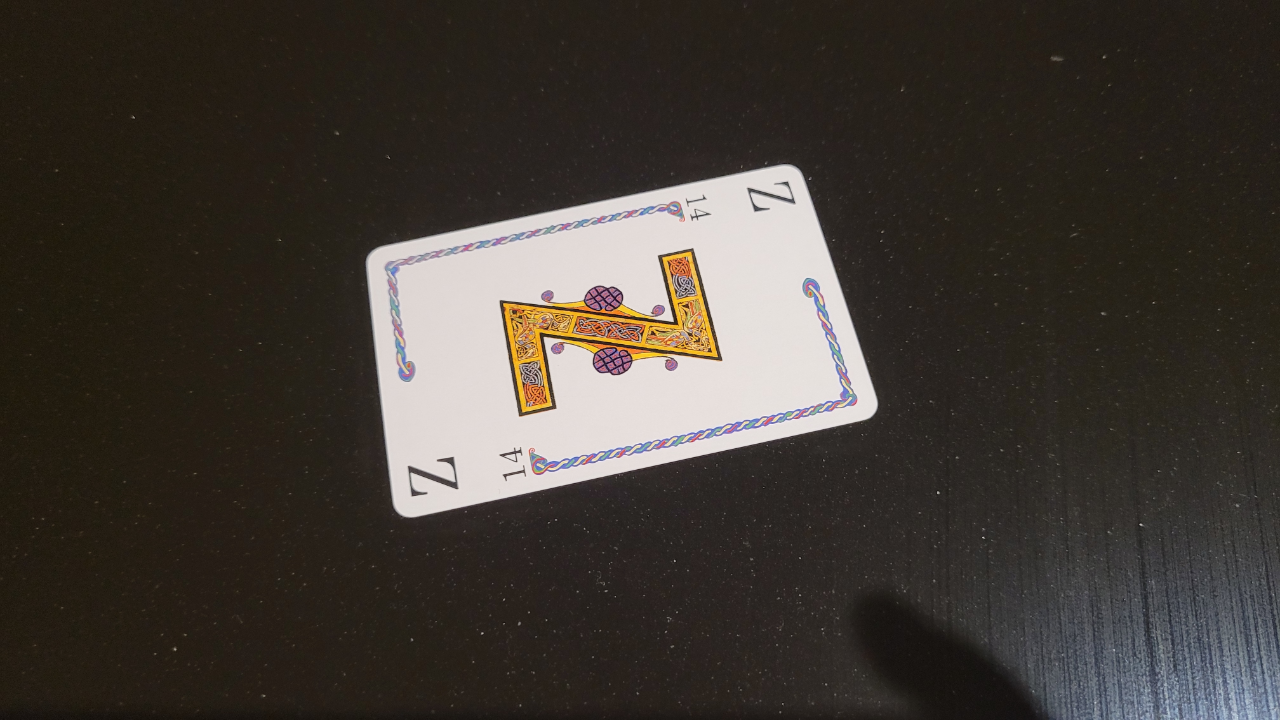quiddler_card: (338, 151, 911, 526)
